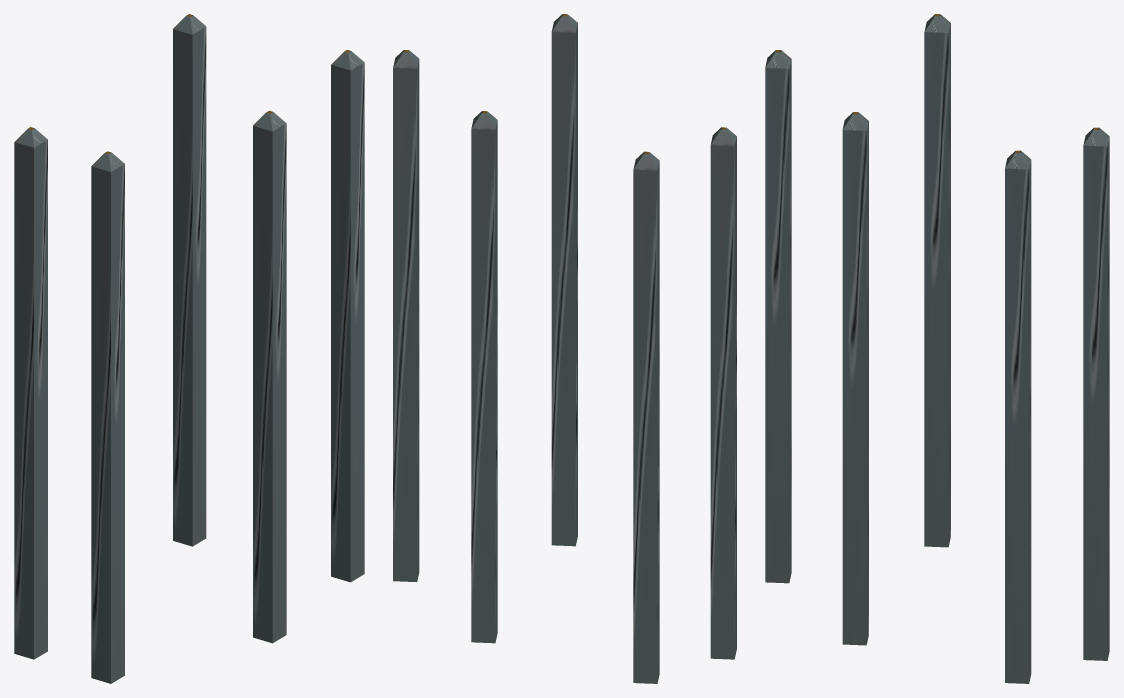
File: bars.fbx
3 renders of one model, left to right at view 1: azimuth 30°, elevation 25°; view 2: azimuth 150°, elevation 25°; view 3: azimuth 330°, elevation 25°, orthographic.
Visible parts, largest first — view 1: Cube, Cube.002, Cube.001, Cube.003, Cube.004; view 2: Cube.003, Cube.004, Cube.002, Cube.001, Cube; view 3: Cube, Cube.001, Cube.003, Cube.002, Cube.004.
Boxes of the visible parts, box(x1,y1,x2,y2) form: Cube: box(331, 50, 364, 582); Cube.002: box(173, 14, 206, 546); Cube.001: box(253, 111, 286, 643); Cube.003: box(91, 151, 124, 683); Cube.004: box(14, 127, 47, 659); Cube.003: box(633, 151, 659, 683); Cube.004: box(710, 127, 736, 659); Cube.002: box(551, 14, 577, 546); Cube.001: box(471, 111, 497, 643); Cube: box(393, 50, 419, 581); Cube: box(1083, 127, 1109, 660); Cube.001: box(1005, 150, 1031, 683); Cube.003: box(842, 112, 868, 645); Cube.002: box(924, 14, 950, 547); Cube.004: box(765, 50, 791, 583).
Size of the model in its own units: 871 by 1550 by 70.07.
Materials: 1 (1 with a texture image).
